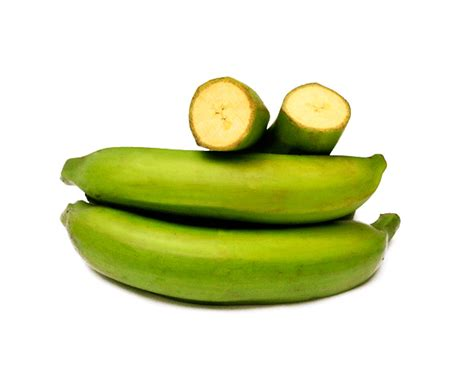banana: (54, 197, 401, 307), (54, 141, 391, 227)
